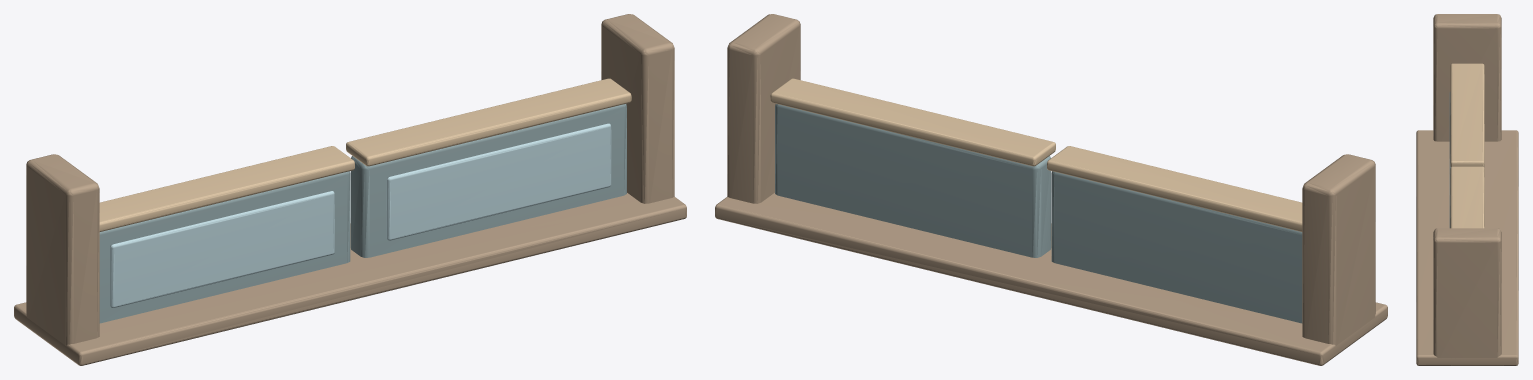
The model's file is EntranceCutaway.fbx.
The picture shows the model from 3 angles, left to right: view 1: azimuth 30°, elevation 25°; view 2: azimuth 150°, elevation 25°; view 3: azimuth 270°, elevation 25°; orthographic projection. The views are drawn at different scales.
Parts seen in each view (by area): view 1: EntranceCutaway; view 2: EntranceCutaway; view 3: EntranceCutaway.
Boxes of the visible parts, x1,y1,x2,y2 form: EntranceCutaway: [14, 14, 686, 365]; EntranceCutaway: [715, 14, 1387, 365]; EntranceCutaway: [1416, 14, 1518, 365].
Size of the model in its own units: 2.2 by 0.58 by 0.42.
